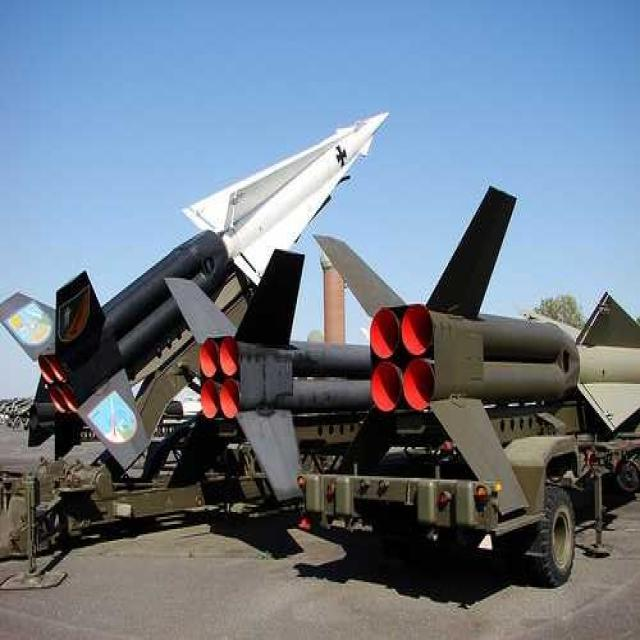missile: (178, 102, 393, 286)
